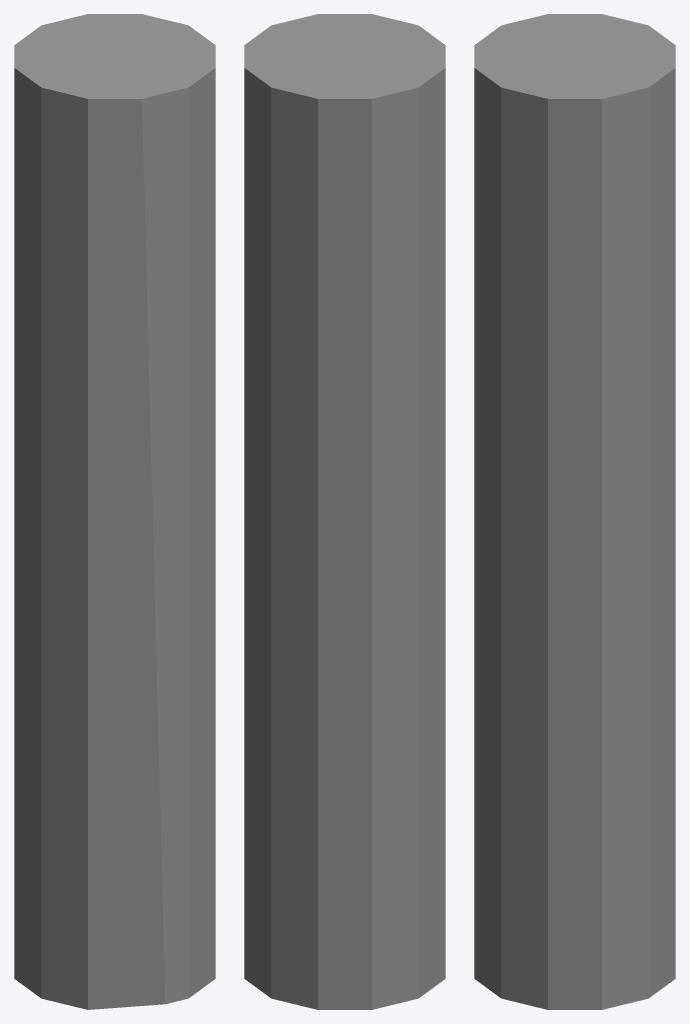
The model's file is pillar.gltf.
3 views of the same model, side by side, from view 1: azimuth 30°, elevation 25°; view 2: azimuth 150°, elevation 25°; view 3: azimuth 270°, elevation 25° (orthographic).
Parts seen in each view (by area): view 1: cylinder; view 2: cylinder; view 3: cylinder.
Part boxes in pixels (x1=…): cylinder: x1=14, y1=14, x2=215, y2=1009; cylinder: x1=244, y1=14, x2=445, y2=1009; cylinder: x1=474, y1=14, x2=675, y2=1009.
Bounding box in the file's own units: 1 × 5 × 1.
Materials: 1 (1 with a texture image).
